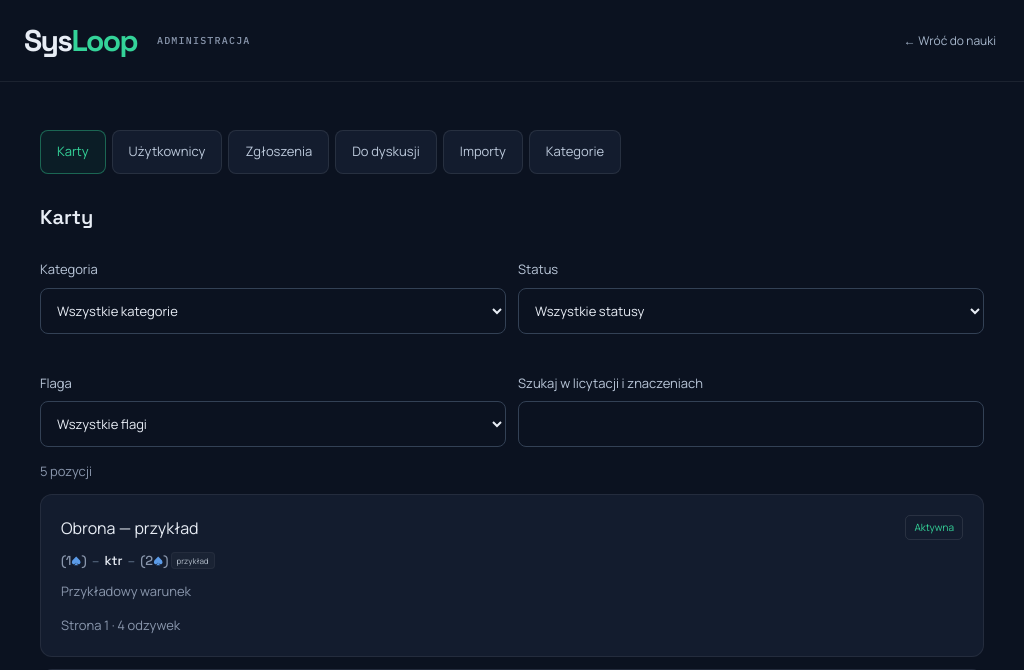
panel administratora › nadanie dostępu wymaga potwierdzenia; własne konto nie ma usuwania
Check: the heading "Karty" is shown, box [40,204,93,230]
What coordinates should you click on to do the following:
click the button "Użytkownicy"
I would click on:
 (167, 152)
Its box is [112,130,222,174].
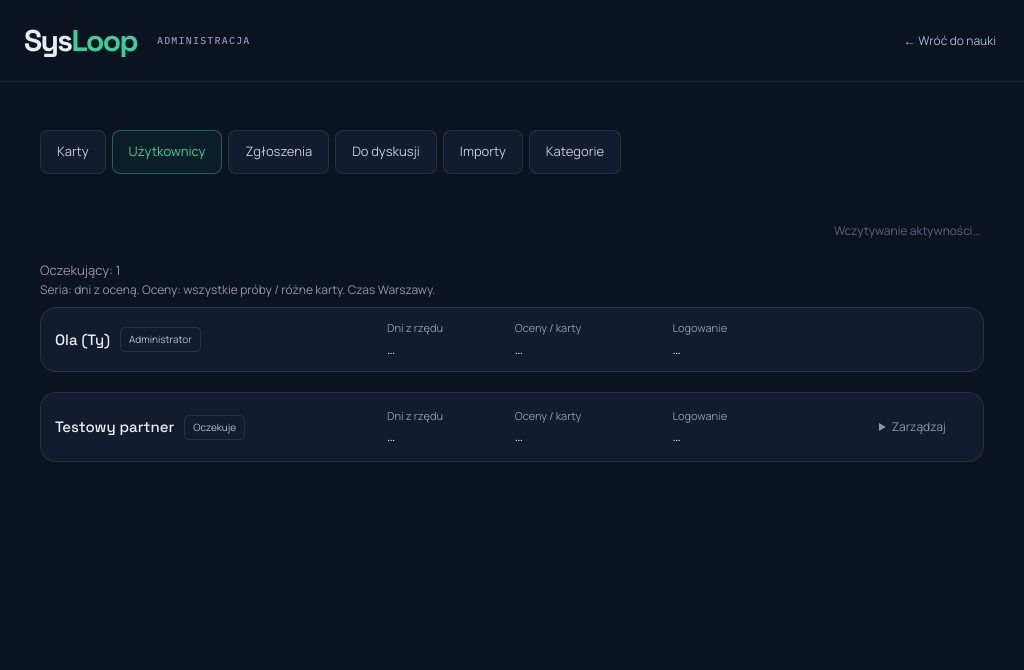
What coordinates should you click on to do the following:
click the heading "Zarządzaj"
I would click on:
 (919, 427)
Its box is [892,418,946,435].
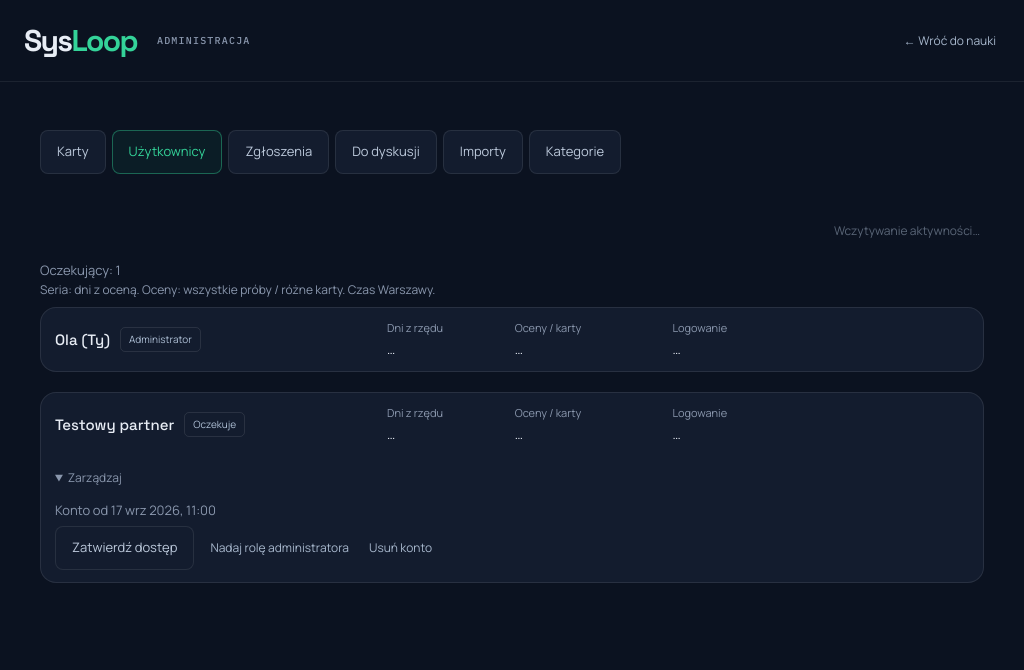
Check: the number of buttons "Usuń konto" is 1, box [365,526,436,570]
What coordinates should you click on to do the following:
click the button "Zatwierdź dostęp"
I would click on:
 (125, 548)
Its box is [55,526,194,570].
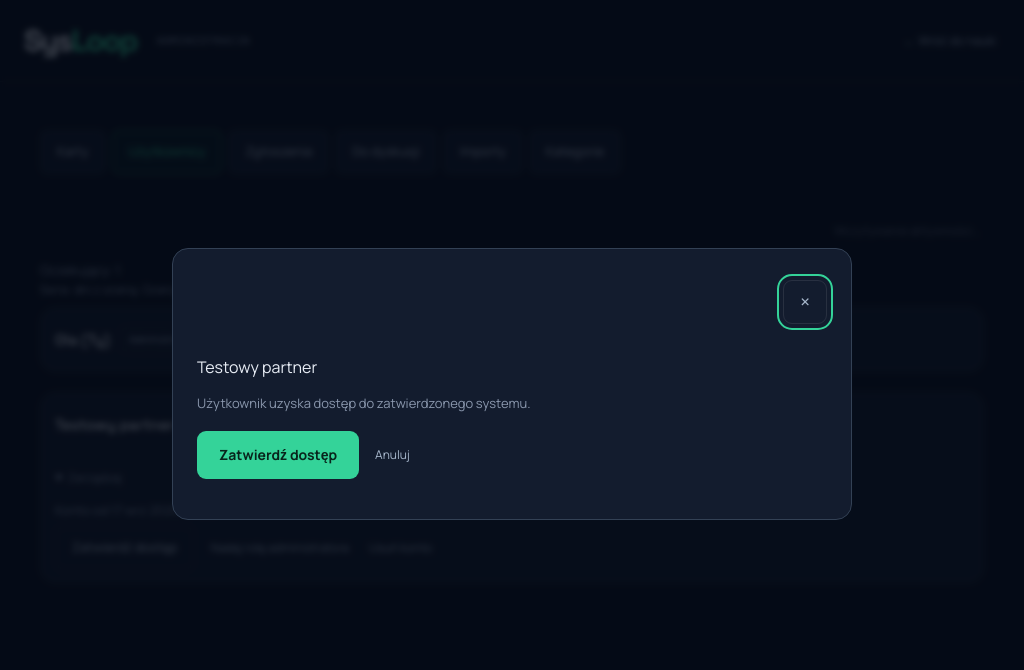
What coordinates should you click on to do the following:
click the button "Zatwierdź dostęp"
I would click on:
 (278, 455)
Its box is [197,431,359,479].
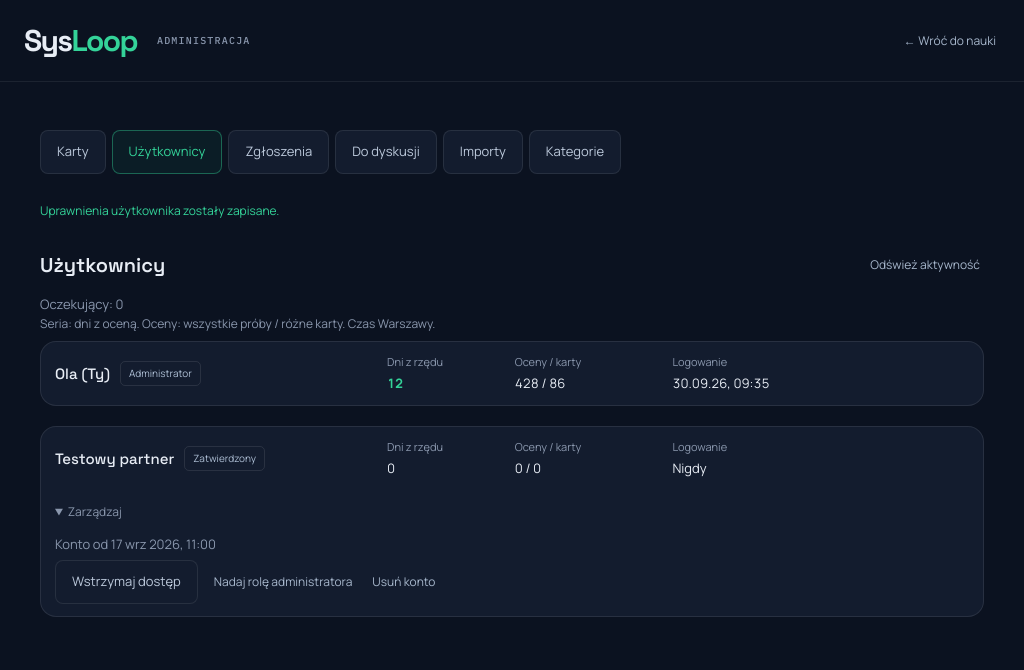
Check: the text "Uprawnienia użytkownika zostały zapisane." is shown, box [40,202,279,219]
